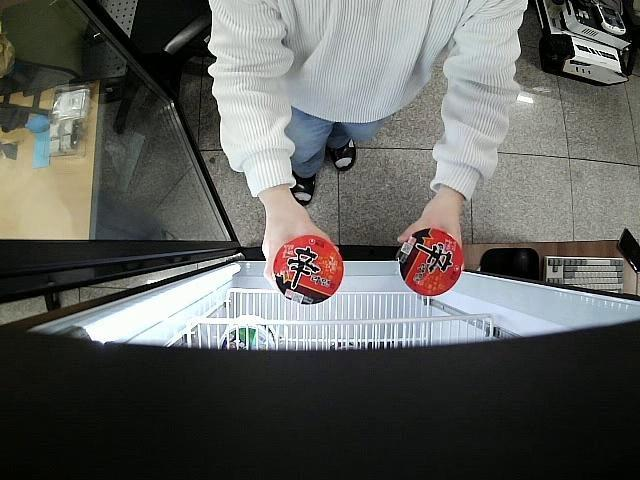02_shinRamen_S: (274, 235, 343, 306), (398, 227, 464, 296)
